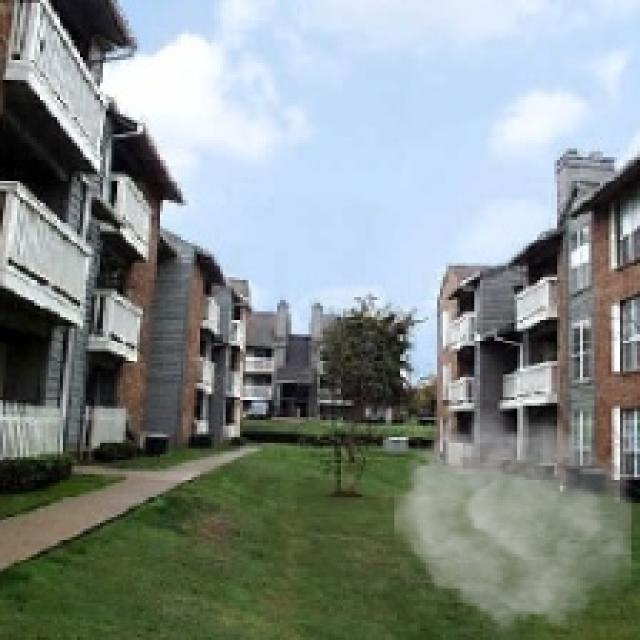smoke: (394, 406, 632, 637)
